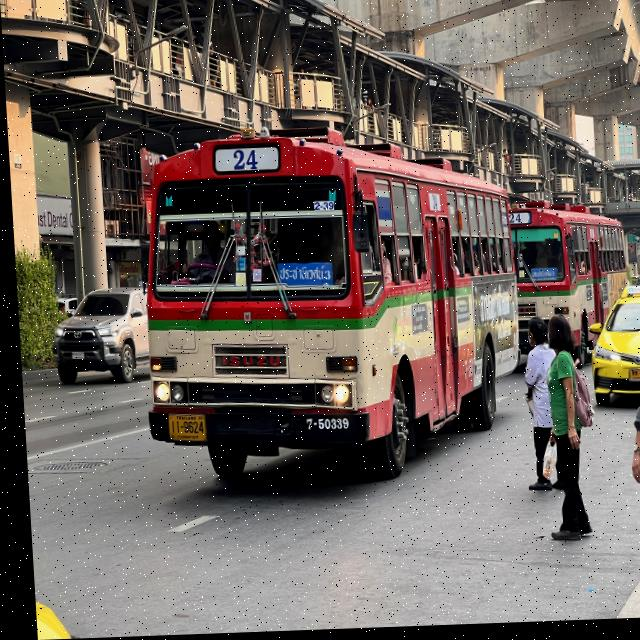BMTA-bus: (127, 110, 525, 500), (507, 207, 624, 370)
Bus Line Number: (210, 147, 280, 176)
Bus Side Number: (297, 415, 349, 437)
Destination Sign: (273, 264, 331, 292)
